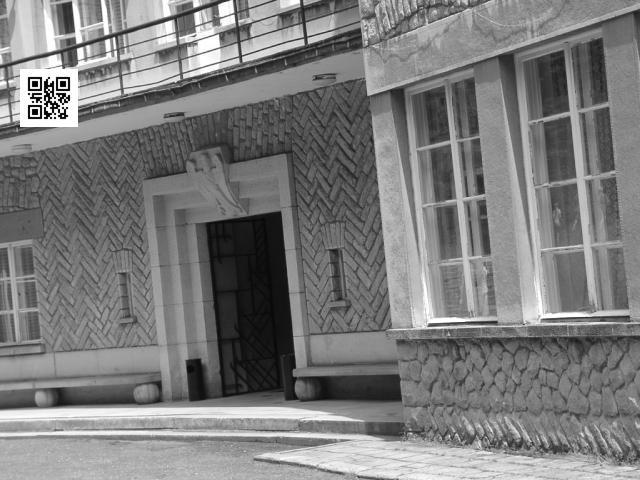qr_code: (19, 70, 78, 126)
